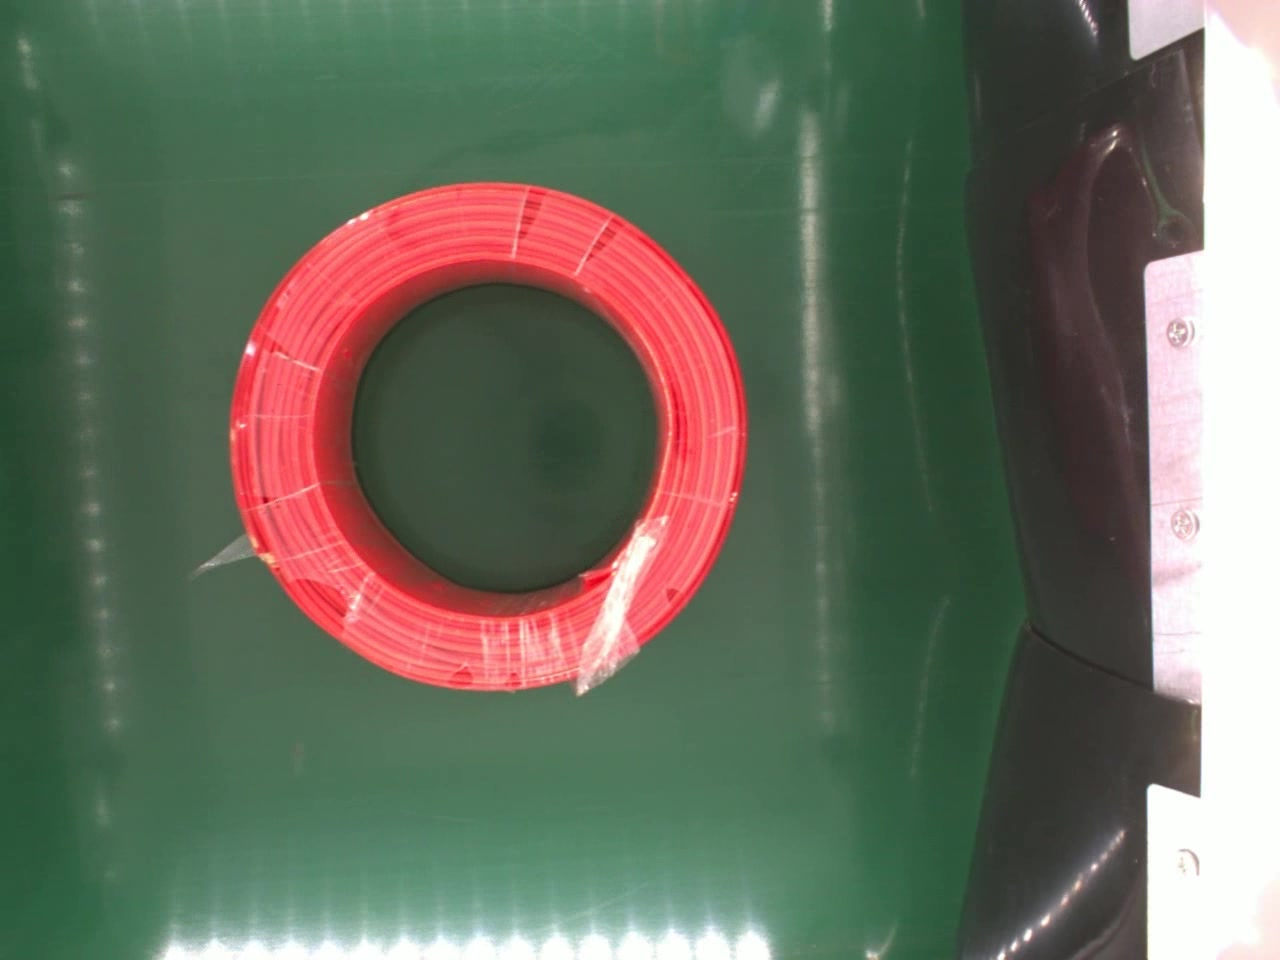red: (226, 181, 751, 693)
